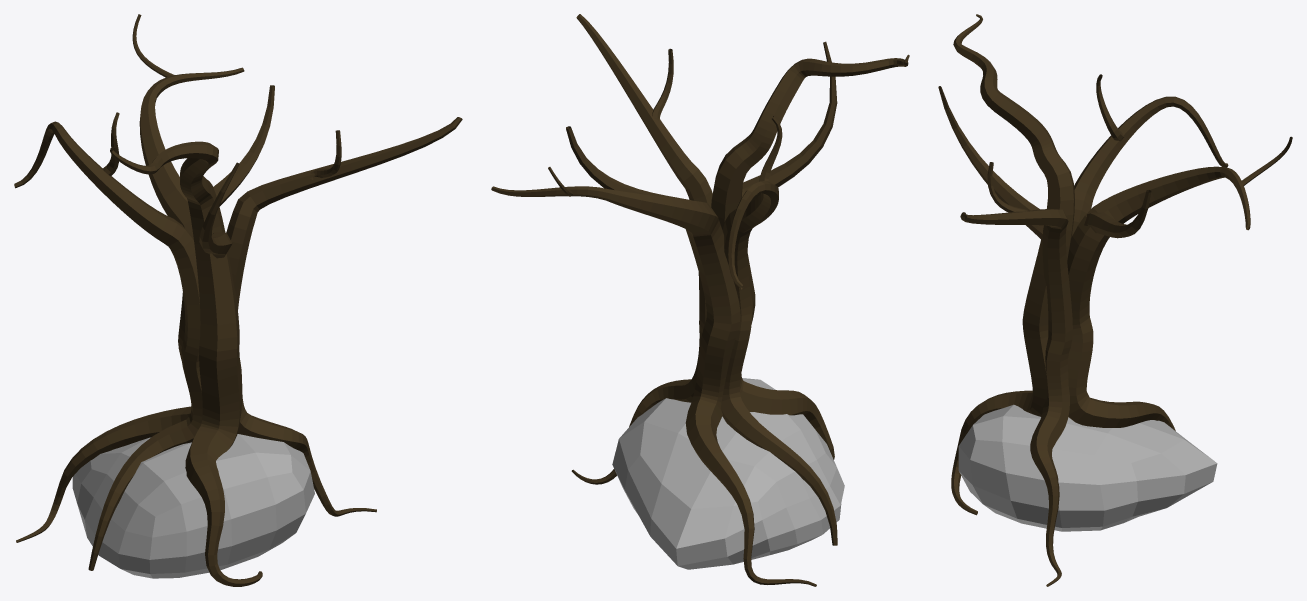
Rendered from abre1_v3.fbx.
3 renders of one model, left to right at view 1: azimuth 30°, elevation 25°; view 2: azimuth 150°, elevation 25°; view 3: azimuth 270°, elevation 25°, orthographic. The views are drawn at different scales.
Visible parts, largest first — view 1: Cube, BezierCurve.003, BezierCurve.002, BezierCurve, BezierCurve.001, BezierCurve.006, BezierCurve.005; view 2: Cube, BezierCurve.001, BezierCurve.003, BezierCurve.002, BezierCurve, BezierCurve.005, BezierCurve.006; view 3: Cube, BezierCurve.001, BezierCurve.003, BezierCurve, BezierCurve.002, BezierCurve.005, BezierCurve.006, BezierCurve.008.
Boxes of the visible parts, bbox=[...] form: Cube: bbox=[72, 434, 314, 578]; BezierCurve.003: bbox=[110, 141, 262, 586]; BezierCurve.002: bbox=[14, 121, 202, 570]; BezierCurve: bbox=[226, 117, 462, 516]; BezierCurve.001: bbox=[16, 67, 244, 542]; BezierCurve.006: bbox=[213, 85, 274, 206]; BezierCurve.005: bbox=[199, 162, 239, 258]; Cube: bbox=[612, 378, 844, 569]; BezierCurve.001: bbox=[491, 186, 816, 586]; BezierCurve.003: bbox=[711, 54, 909, 459]; BezierCurve.002: bbox=[720, 181, 837, 545]; BezierCurve: bbox=[571, 14, 712, 484]; BezierCurve.005: bbox=[742, 41, 837, 202]; BezierCurve.006: bbox=[566, 126, 691, 200]; Cube: bbox=[958, 404, 1217, 531]; BezierCurve.001: bbox=[1067, 166, 1250, 430]; BezierCurve.003: bbox=[951, 14, 1074, 515]; BezierCurve: bbox=[960, 209, 1072, 586]; BezierCurve.002: bbox=[1071, 96, 1228, 397]; BezierCurve.005: bbox=[938, 86, 1043, 238]; BezierCurve.006: bbox=[1084, 190, 1151, 238]; BezierCurve.008: bbox=[1096, 74, 1123, 141].
Bounding box in the file's own units: 1269 × 1657 × 1211.
